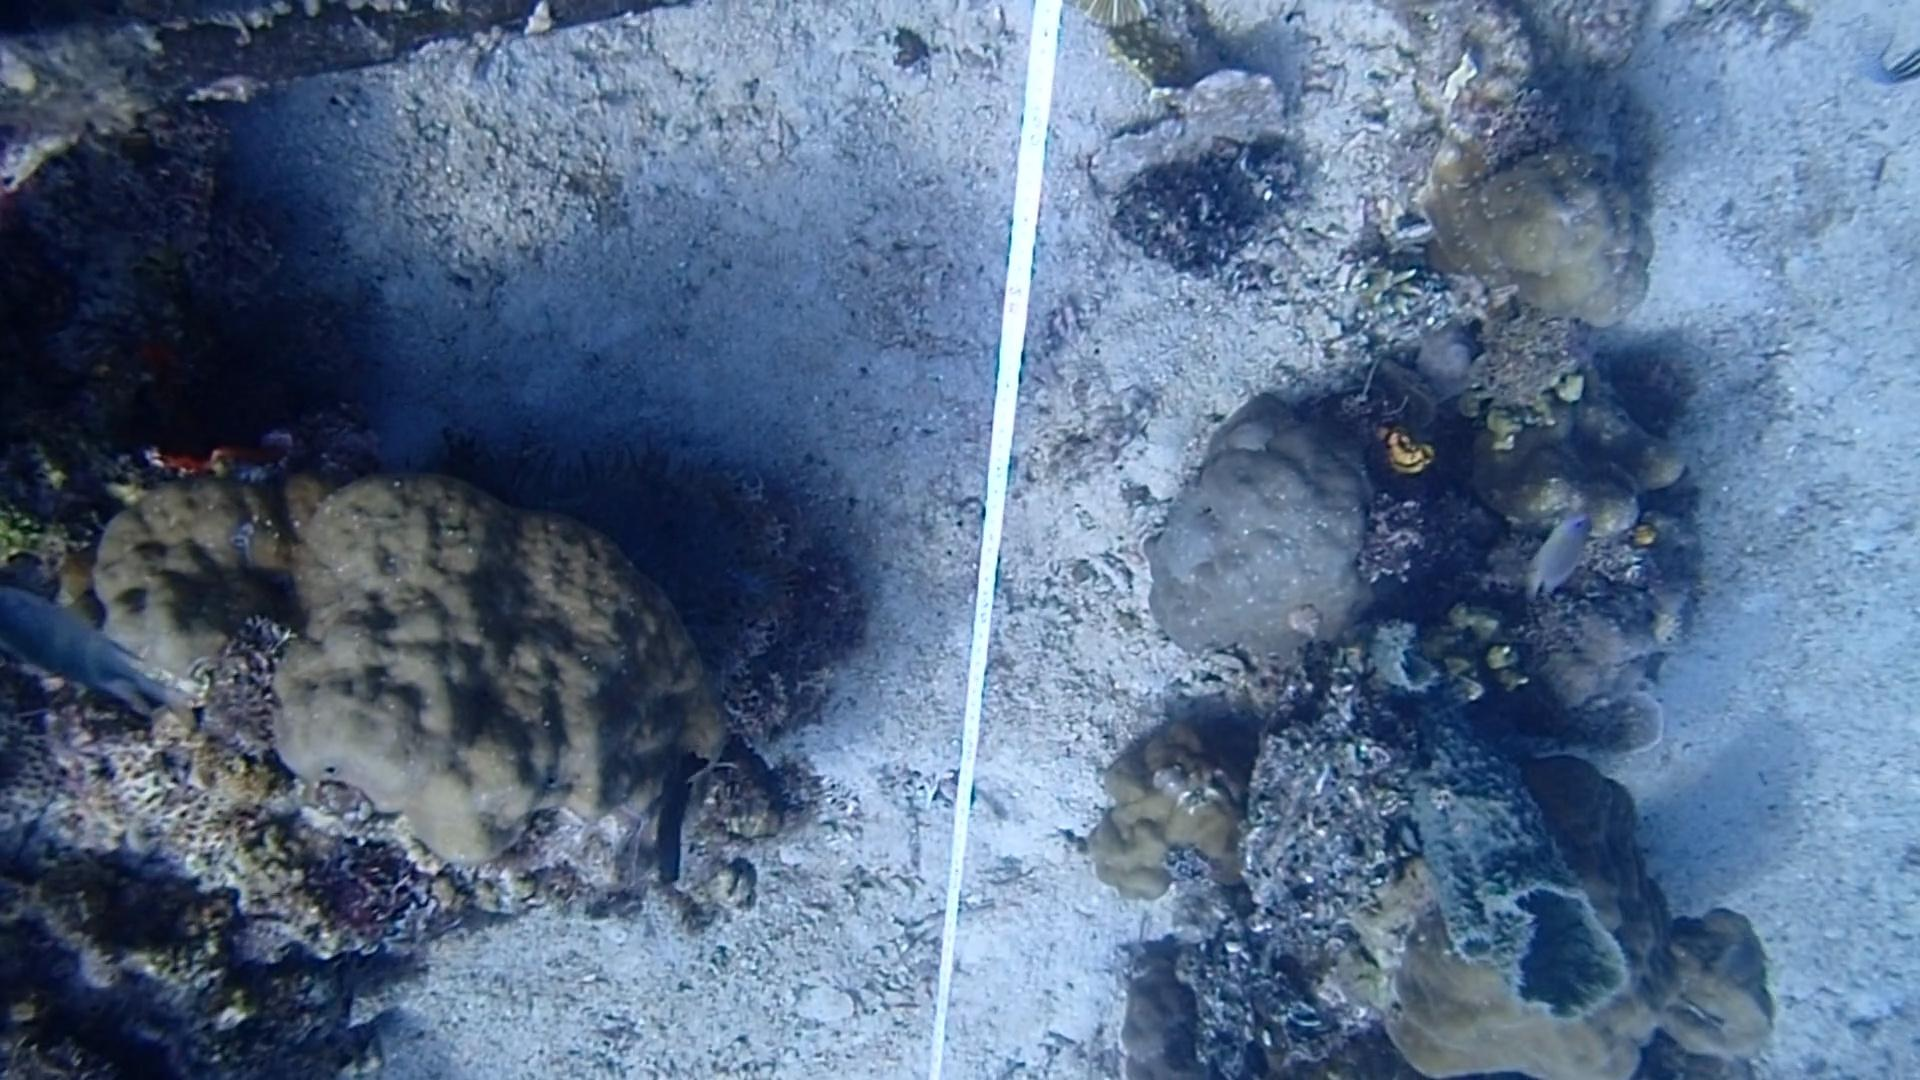Blue Fish: (5, 575, 164, 736)
Blue Nose Fish: (1514, 510, 1593, 611)
Dark Fish: (629, 745, 719, 902)
